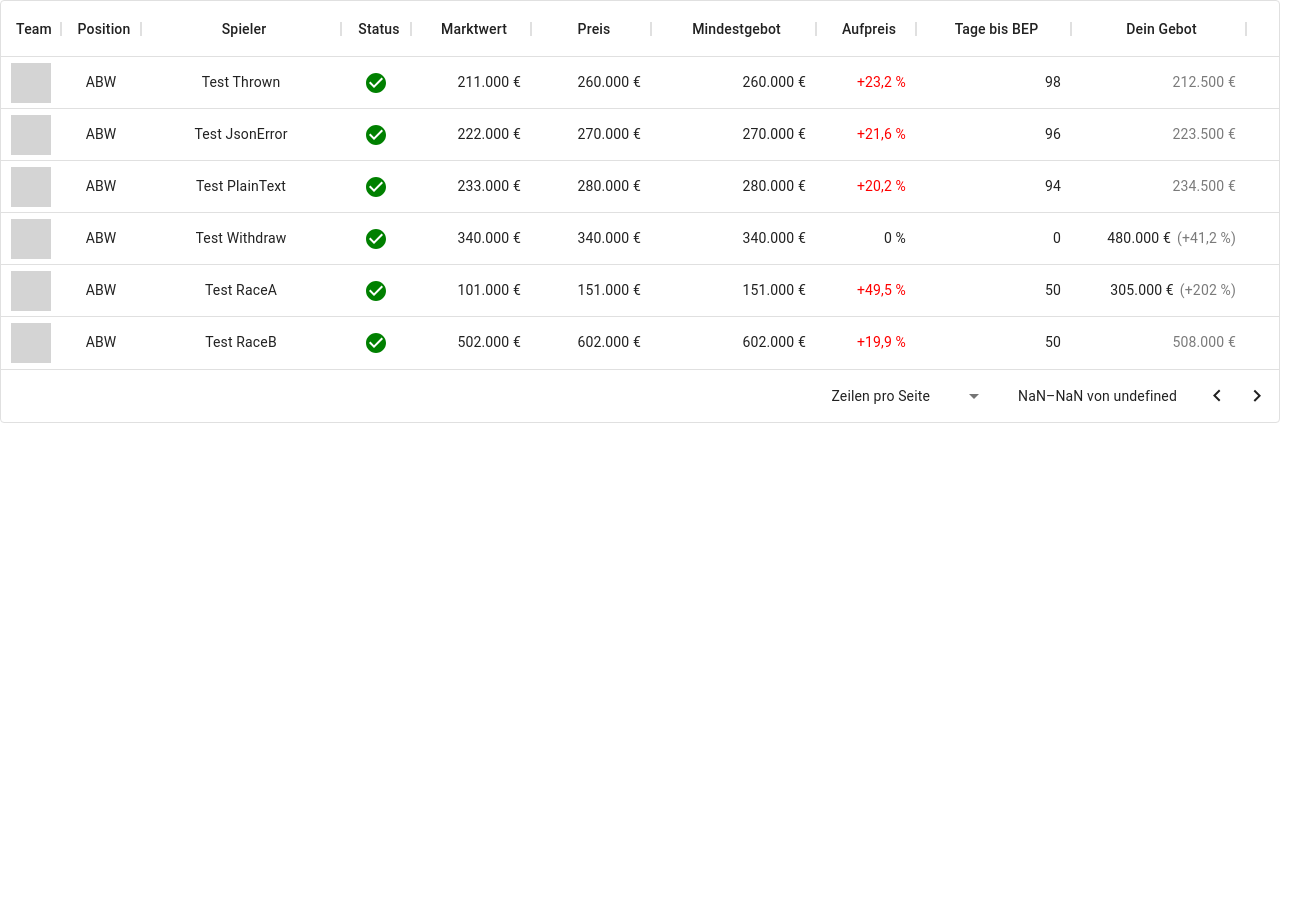
Test: MarketTable bidding › keeps the typed draft and reports the API as unreachable when fetch throws outright
The width and height of the screenshot is (1292, 900).
Expected: the text "Test Thrown" is shown, [202,72,280,92]
Click the text "212.500 €" at x=1204, y=82, box [1172,74,1236,90]
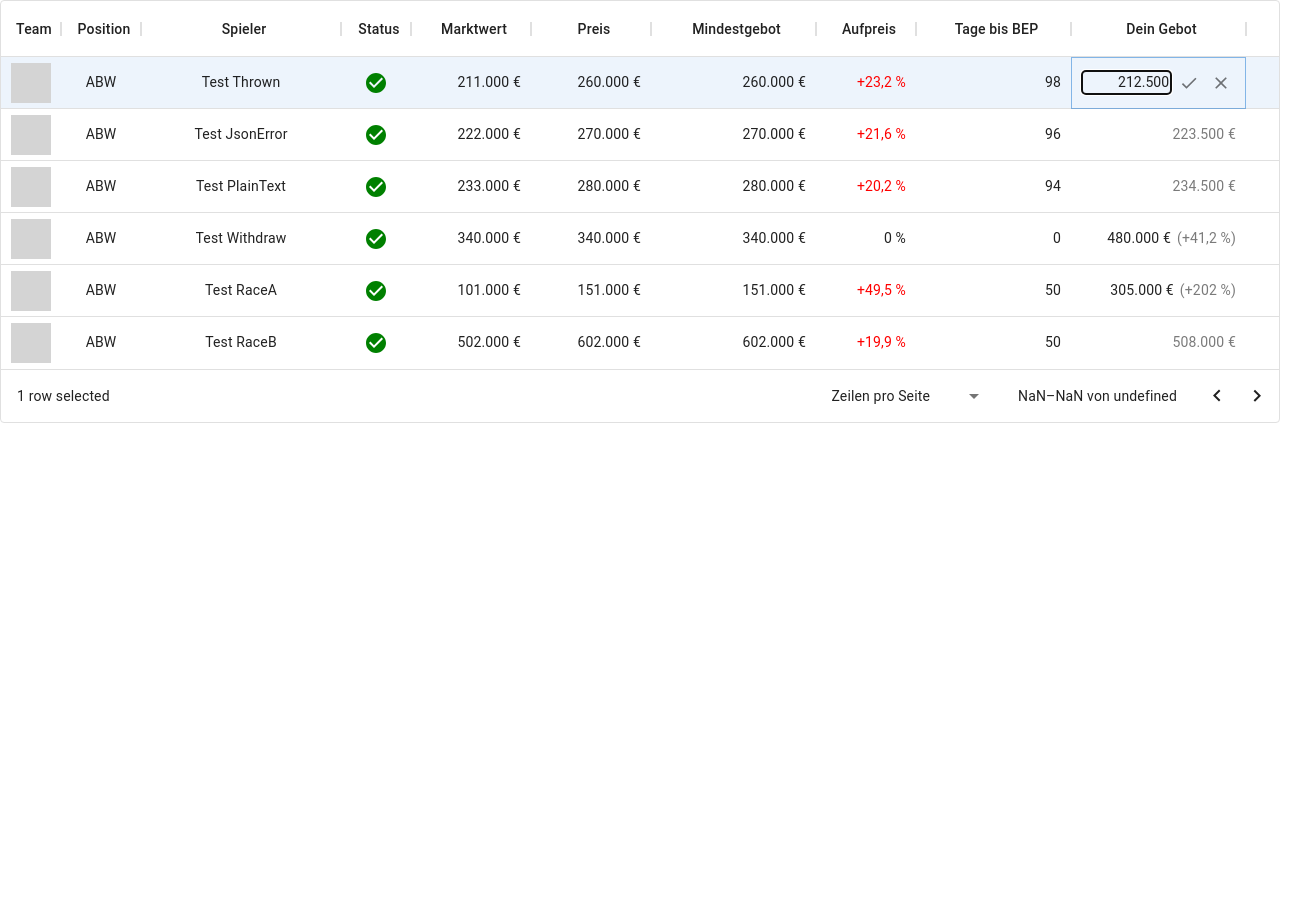
Replace the text in the field with "150000" at x=1126, y=82, box [1081,70,1172,94]
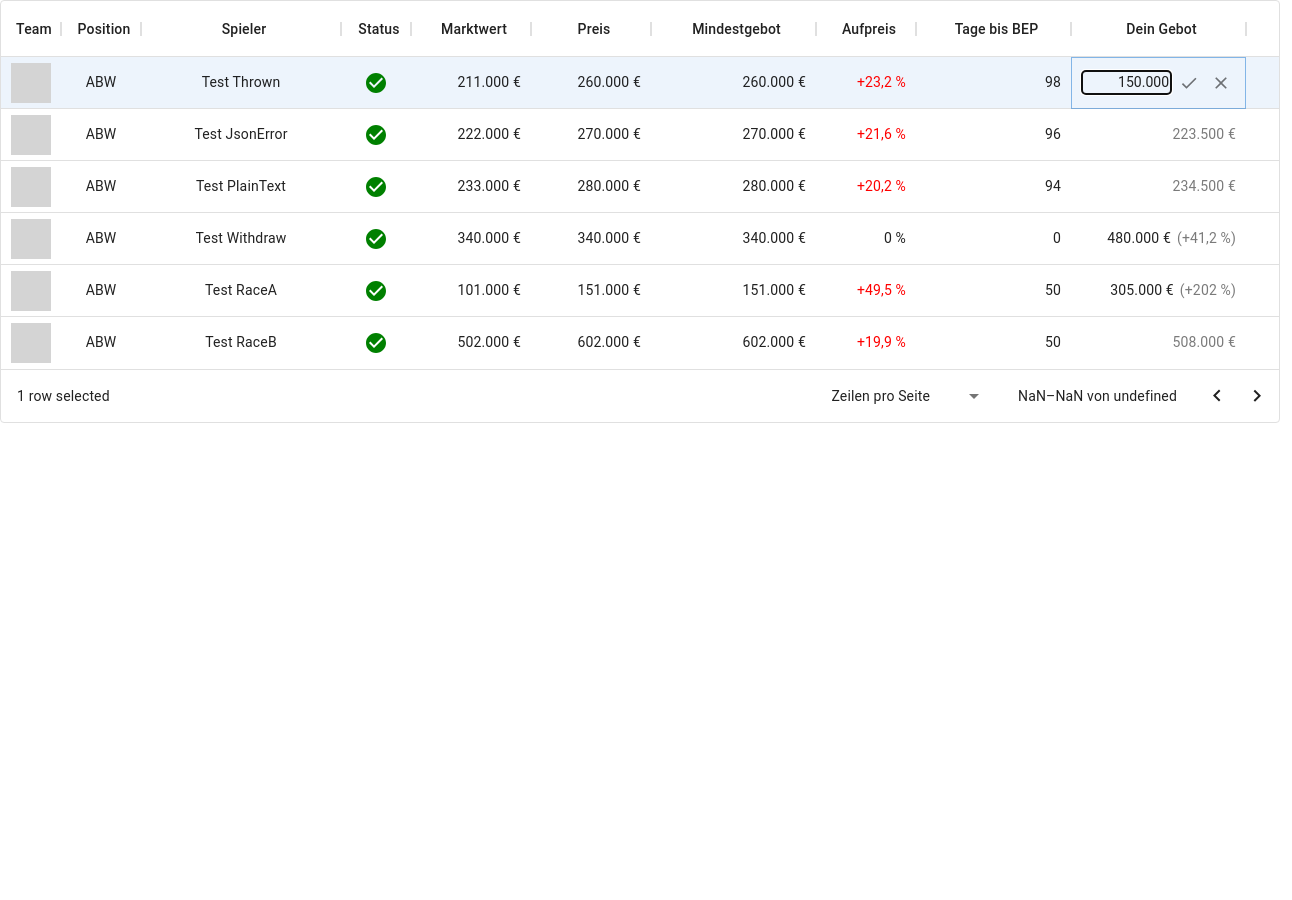
Click the button named "Gebot abgeben" at x=1189, y=82, box [1174,68,1204,98]
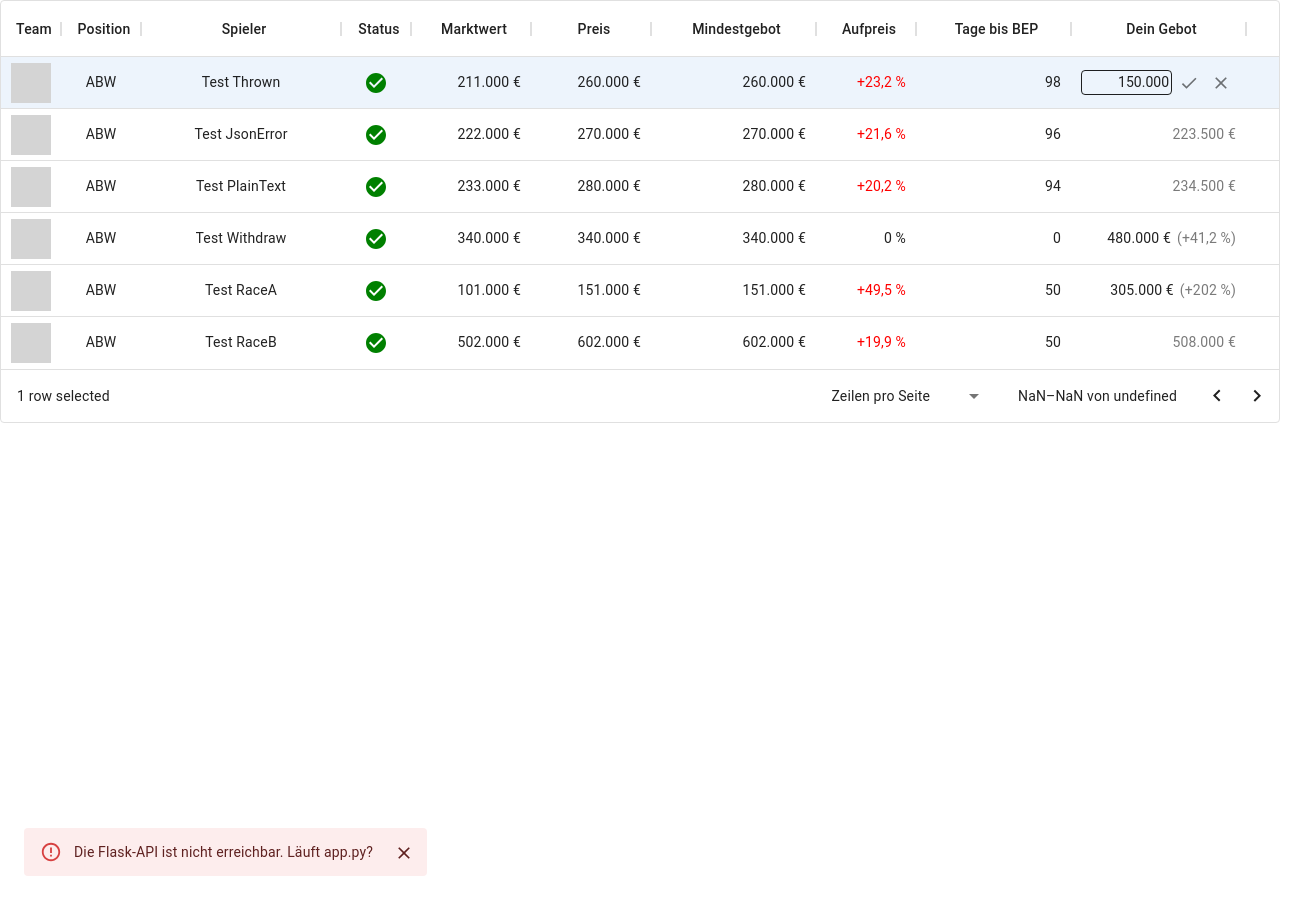
Now the field holds "150.000", box [1081,70,1172,94]
Now the text "Die Flask-API ist nicht erreichbar. Läuft app.py?" is shown, box [74,844,373,860]
